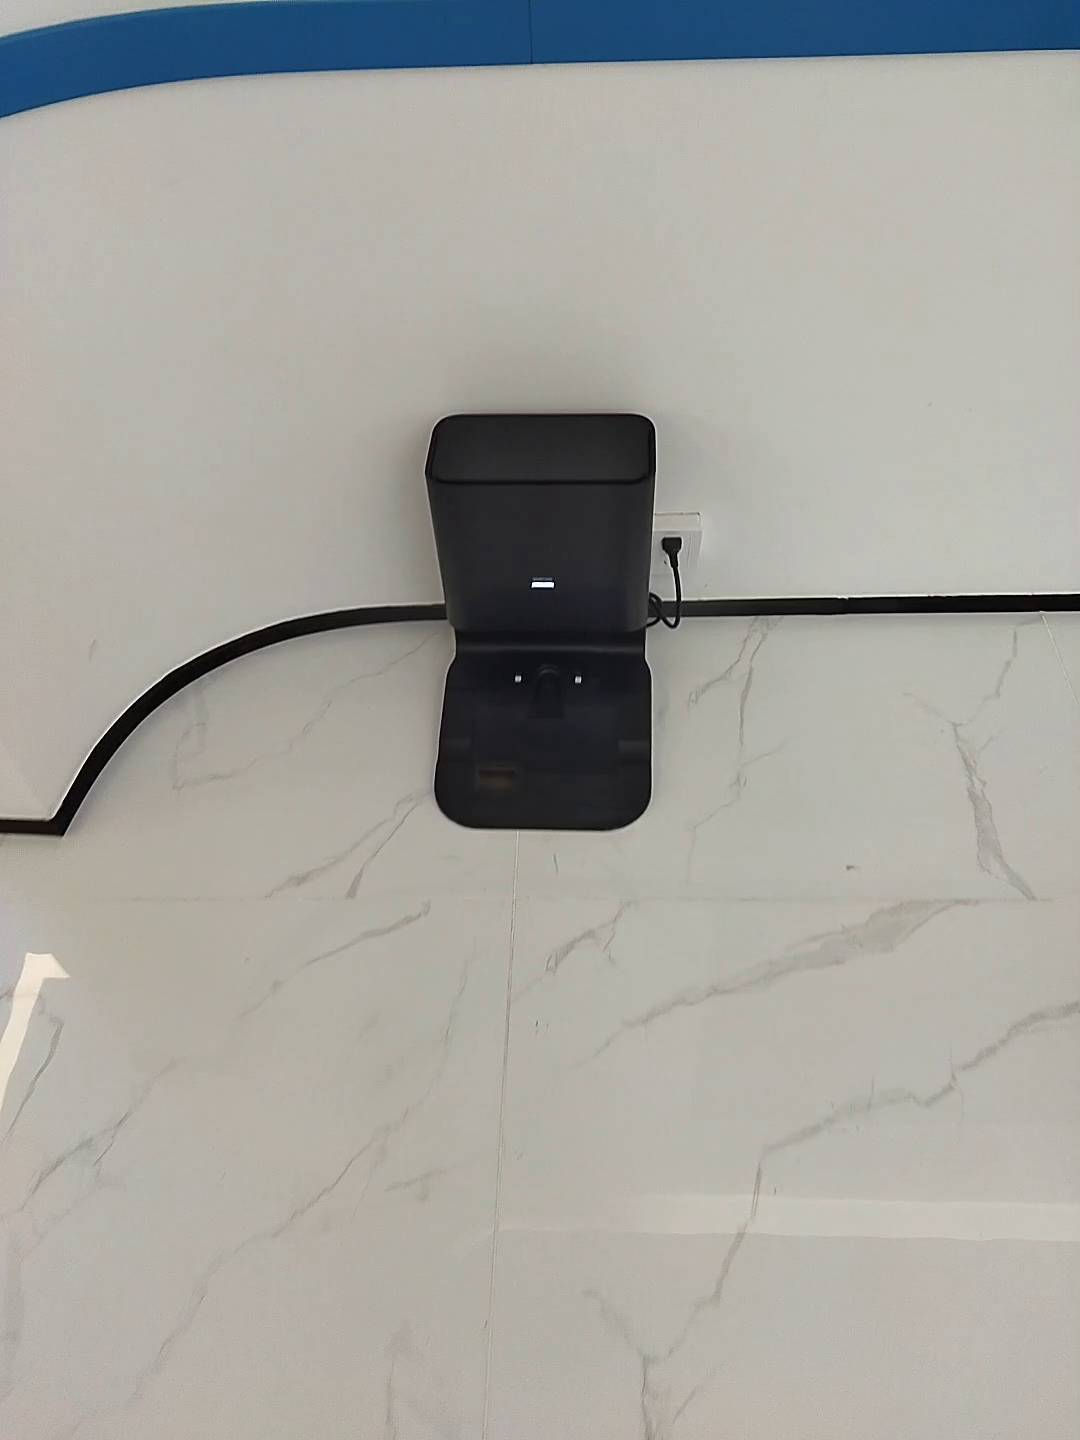dust collecting barrel: (421, 412, 659, 830)
